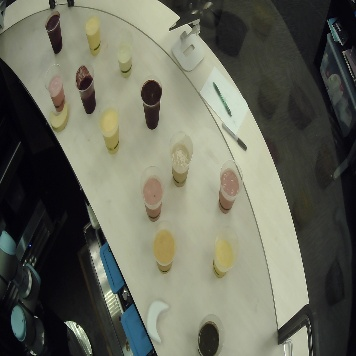full_cup: (135, 163, 171, 223), (168, 128, 199, 192), (190, 307, 229, 356), (149, 220, 183, 276), (215, 156, 245, 218), (95, 103, 127, 159), (140, 74, 166, 138), (210, 230, 239, 280), (73, 63, 101, 114), (80, 12, 109, 58), (42, 9, 68, 55), (44, 64, 69, 111), (117, 41, 137, 79)
puck: (145, 295, 173, 346), (43, 101, 75, 133)
